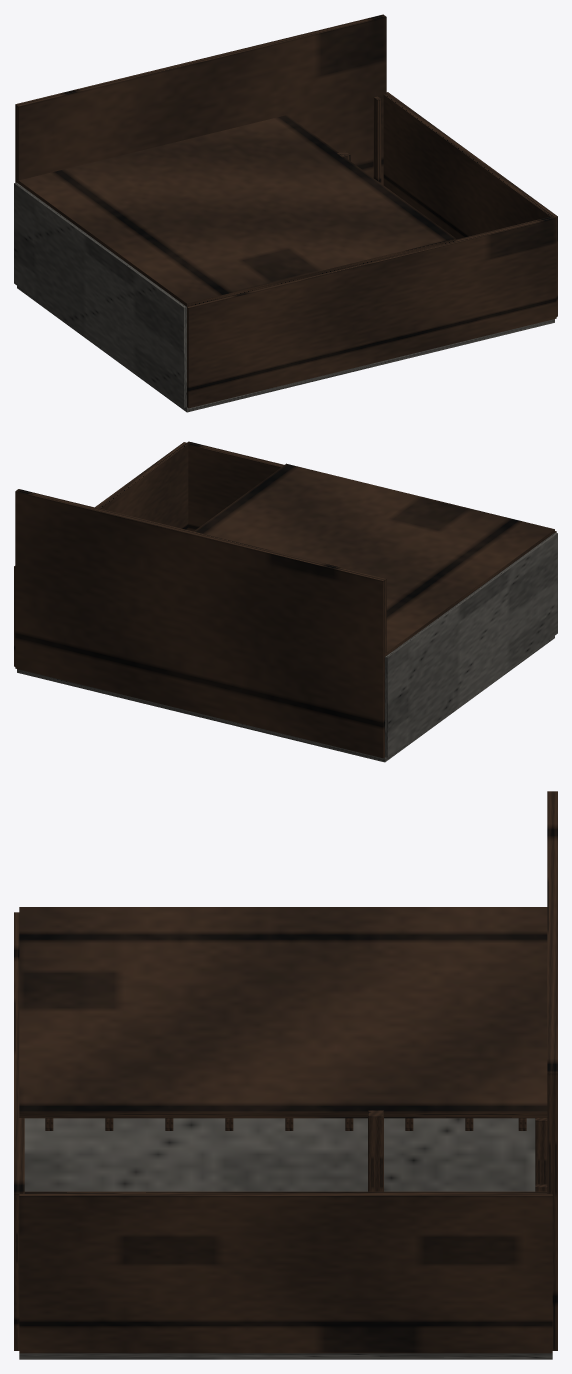
File: basement-shell.glb
3 renders of one model, top to bottom at view 1: azimuth 30°, elevation 25°; view 2: azimuth 150°, elevation 25°; view 3: azimuth 270°, elevation 25°, orthographic. The views are drawn at different scales.
Parts seen in each view (by area): view 1: SM_lonely_basement_shell_Wood_Charred, SM_Env_FrontWall, SM_lonely_basement_shell_Concrete_Weathered, SM_lonely_basement_shell_Wood_DarkStained; view 2: SM_lonely_basement_shell_Wood_Charred, SM_lonely_basement_shell_Concrete_Weathered, SM_Env_FrontWall; view 3: SM_lonely_basement_shell_Wood_Charred, SM_lonely_basement_shell_Concrete_Weathered, SM_lonely_basement_shell_Wood_DarkStained, SM_Env_FrontWall.
Part boxes in pixels (x1,y1,x2,y2): SM_lonely_basement_shell_Wood_Charred: (15, 14, 557, 316); SM_Env_FrontWall: (187, 216, 556, 408); SM_lonely_basement_shell_Concrete_Weathered: (14, 182, 554, 412); SM_lonely_basement_shell_Wood_DarkStained: (337, 96, 381, 183); SM_lonely_basement_shell_Wood_Charred: (14, 442, 554, 758); SM_lonely_basement_shell_Concrete_Weathered: (17, 532, 557, 762); SM_Env_FrontWall: (185, 441, 556, 532); SM_lonely_basement_shell_Wood_Charred: (19, 791, 557, 1353); SM_lonely_basement_shell_Concrete_Weathered: (19, 1118, 552, 1359); SM_lonely_basement_shell_Wood_DarkStained: (45, 1110, 547, 1191); SM_Env_FrontWall: (14, 912, 24, 1350).
Size of the model in its own units: 10.16 by 4.74 by 8.16.
3 materials, 3 textured.
